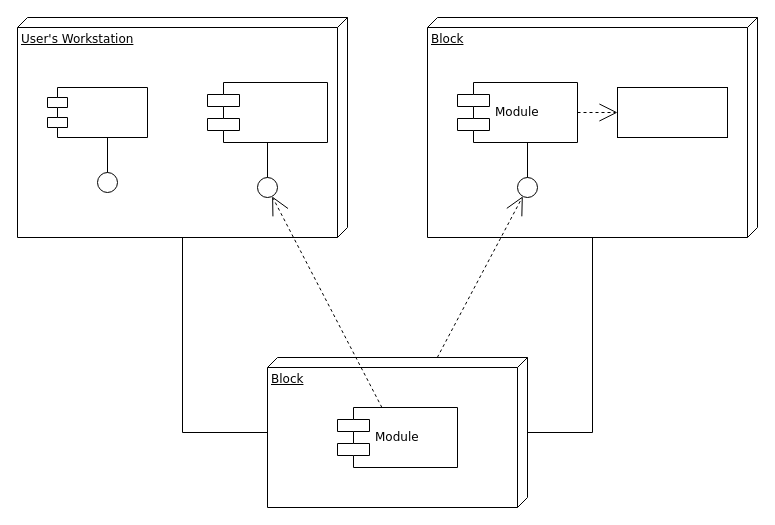
Some shapes in this 775 by 525 pixel diagram are drawn without their labels. The shapes that lost their labels are listed below. From the top down, each one's box as (x1, y1, x2, y2) in pixels, then its label:
(46, 86, 148, 138): FTP Browser
(206, 82, 328, 142): Browser
(616, 86, 728, 138): «interface» Name
